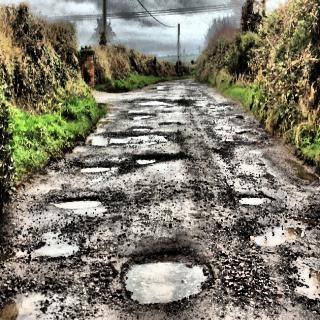pothole: (116, 244, 220, 307), (0, 277, 55, 320), (24, 231, 80, 263), (90, 127, 164, 146), (246, 224, 304, 247), (287, 156, 319, 187), (53, 195, 103, 214), (78, 159, 116, 175), (133, 150, 163, 169), (239, 192, 273, 207), (136, 99, 173, 108), (148, 82, 169, 93)
